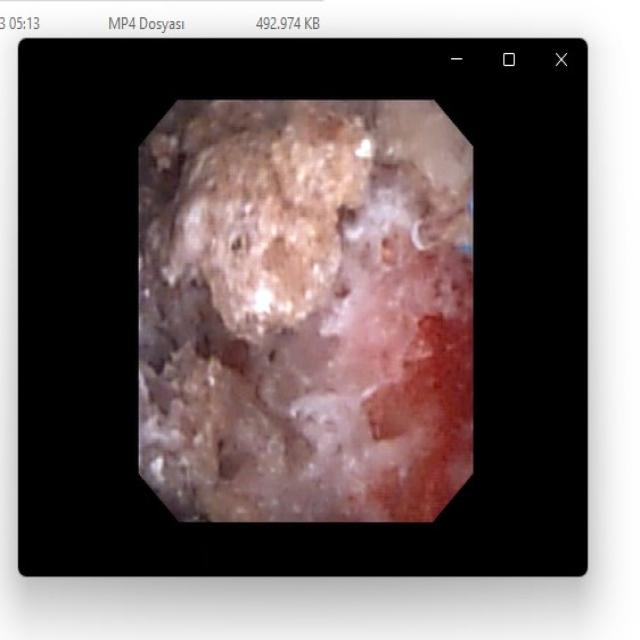stone: (147, 103, 467, 342), (147, 347, 250, 517)
